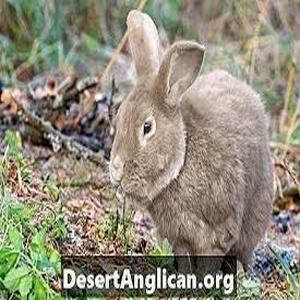rabbit: (110, 10, 273, 263)
